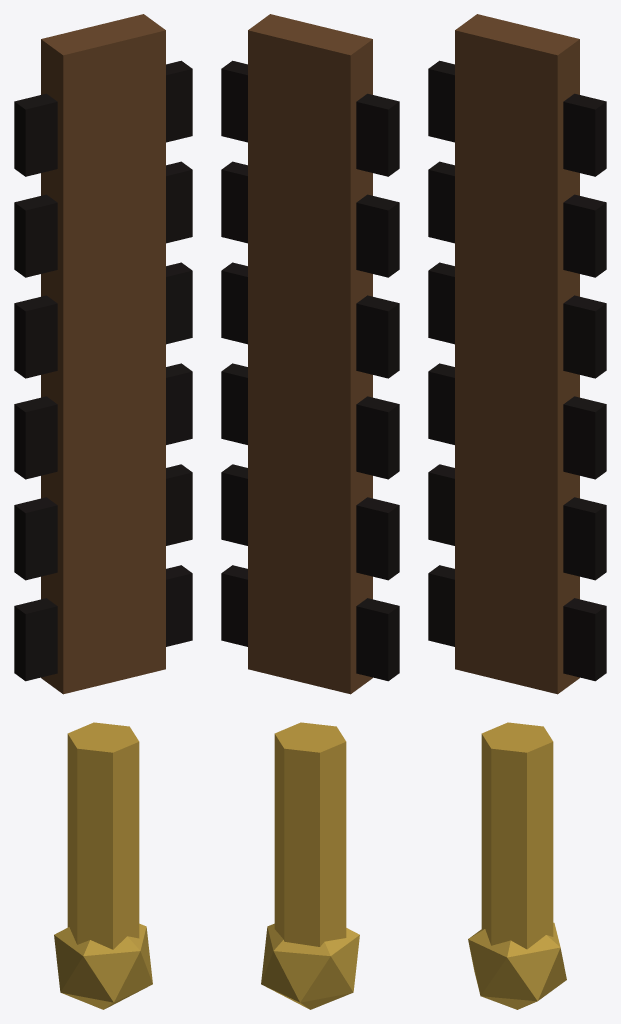
Rendered from gear_macuahuitl.glb.
The picture shows the model from 3 angles, left to right: view 1: azimuth 30°, elevation 25°; view 2: azimuth 150°, elevation 25°; view 3: azimuth 330°, elevation 25°; orthographic projection.
Parts seen in each view (by area): view 1: gear_macuahuitl; view 2: gear_macuahuitl; view 3: gear_macuahuitl.
Part boxes in pixels (box(x1,y1,x2,y2)): gear_macuahuitl: box(14, 14, 192, 1009); gear_macuahuitl: box(221, 14, 399, 1009); gear_macuahuitl: box(428, 14, 606, 1009).
Size of the model in its own units: 0.156 by 0.87 by 0.0766.
